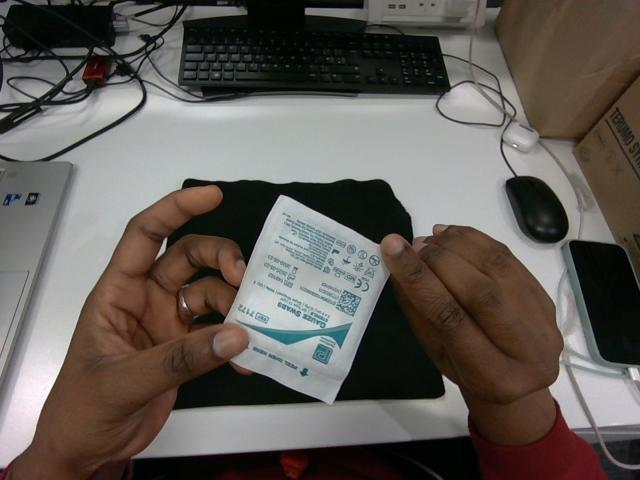gauze: (225, 196, 388, 403)
